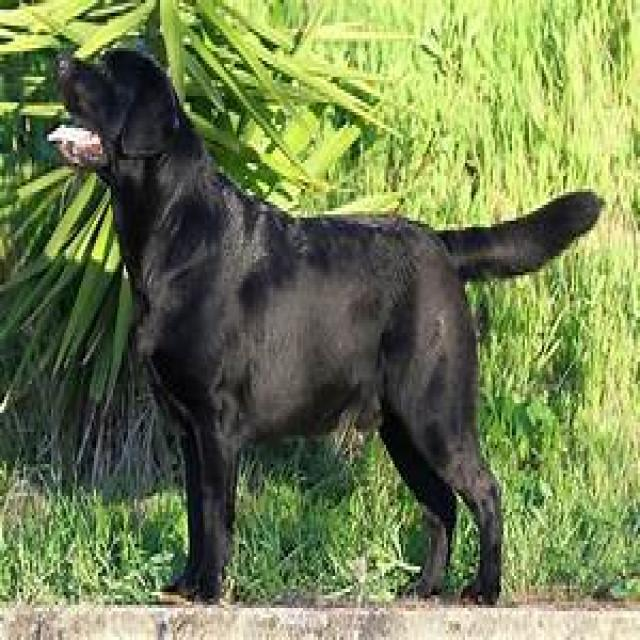dog: (47, 48, 604, 605)
